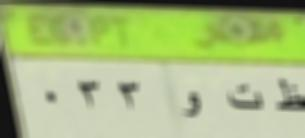0: (33, 86, 66, 112)
3: (110, 78, 146, 111), (77, 72, 105, 114)
Thaa: (274, 73, 305, 116)
taa: (222, 78, 267, 114)
waw: (180, 88, 205, 121)
